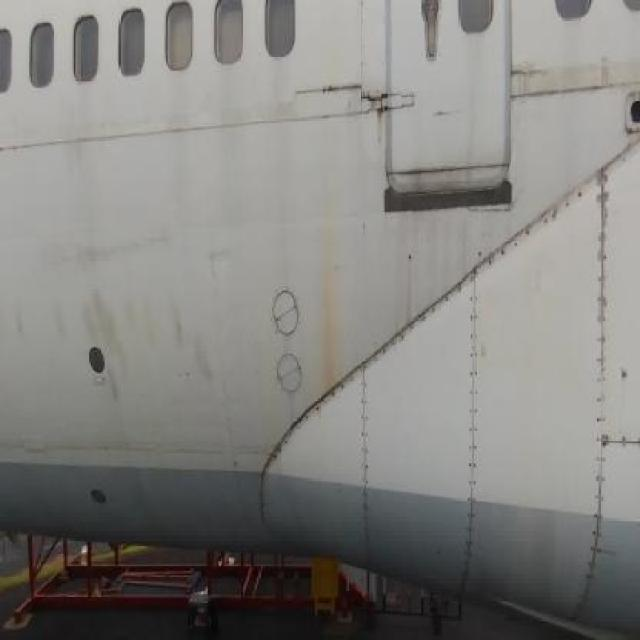Missing-Rivet: (587, 157, 613, 594), (484, 190, 587, 264), (463, 258, 485, 557), (379, 286, 464, 356), (353, 352, 378, 542), (288, 381, 354, 439)
Rust: (306, 210, 349, 392), (367, 66, 399, 154)
Scartch: (15, 288, 231, 415), (510, 44, 618, 127), (55, 219, 180, 284), (203, 228, 246, 301)
